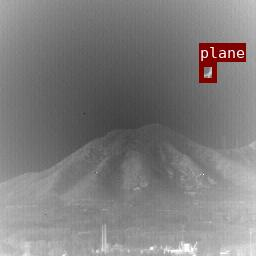plane: (199, 62, 216, 82)
